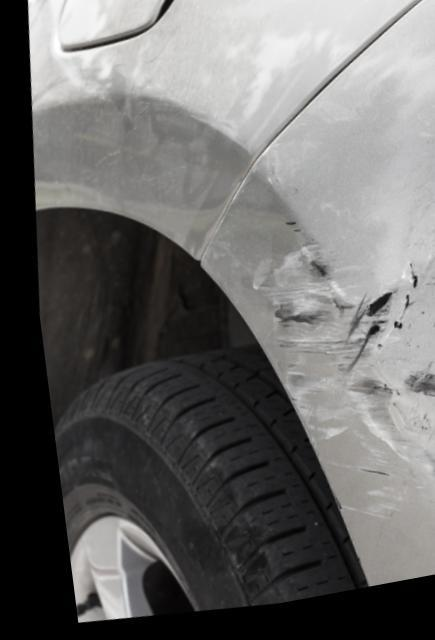scratch: (231, 223, 435, 531)
